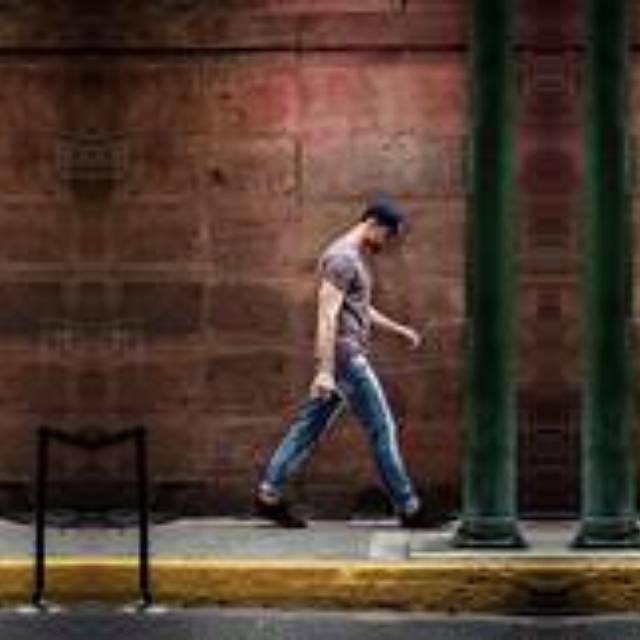person: (266, 192, 460, 550), (636, 192, 640, 549)
